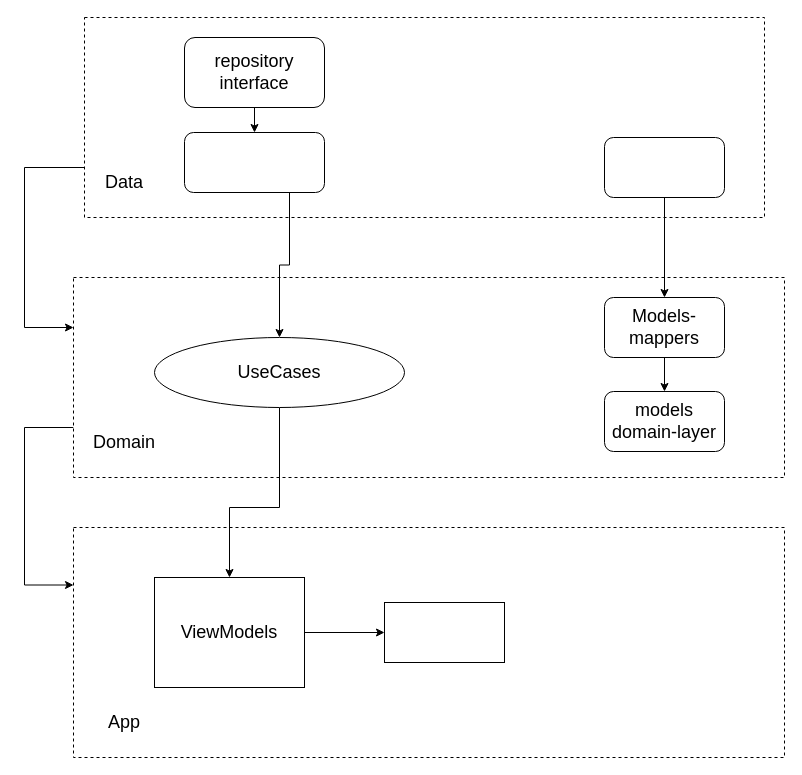
This 802x775 diagram has some shape labels left out. The shapes that lost their labels are listed below. From the top down, each one's box as (x1, y1, x2, y2) in pixels, then its label:
(184, 132, 324, 192): repository implementation
(604, 136, 724, 198): models data-layer
(384, 602, 504, 662): Fragments
